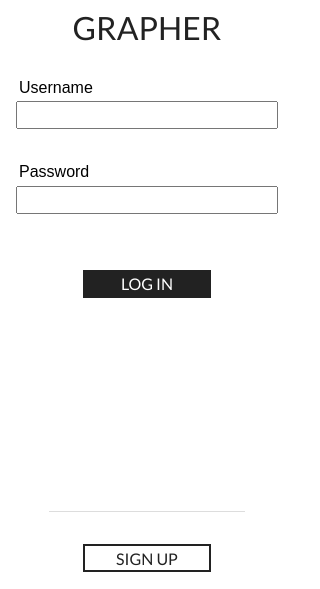
Test: Home › should switch to log in when button is clicked
Step 1. Click the button "Sign Up" → {"x": 147, "y": 558}, box left=83, top=544, right=211, bottom=572
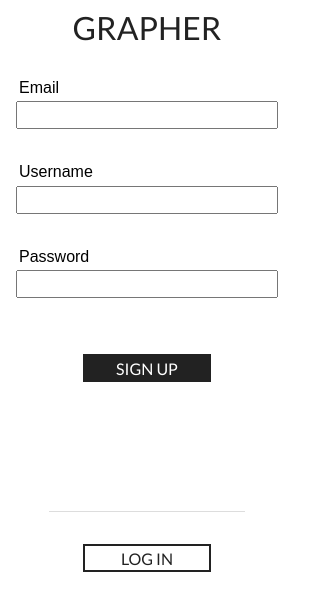
expect the button "Log In" holds "Log In": met
Step 2. Click the button "Log In" → {"x": 147, "y": 558}, box left=83, top=544, right=211, bottom=572
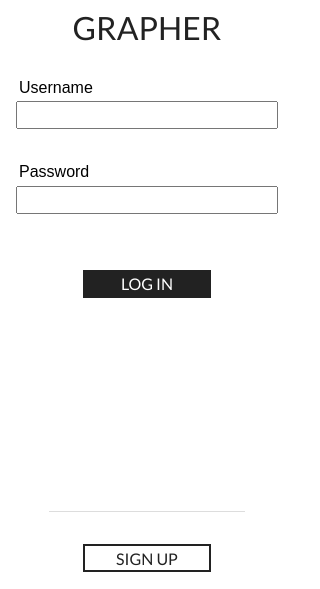
expect the form is shown: met, box left=16, top=79, right=278, bottom=298
